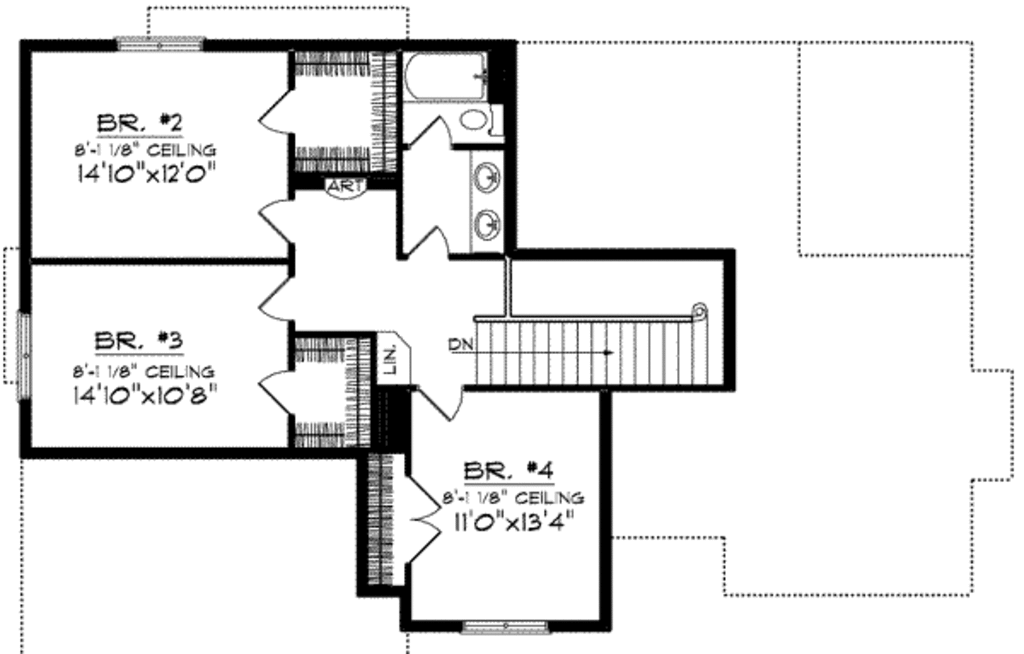door: (404, 470, 443, 569), (252, 364, 295, 420), (254, 194, 294, 252), (256, 273, 295, 331), (254, 87, 295, 139), (412, 384, 464, 423), (404, 223, 451, 265), (407, 114, 453, 155)
large_sink: (454, 103, 511, 143)
small_sink: (468, 148, 509, 255)
stairs: (450, 309, 718, 393)
tub: (398, 50, 491, 105)
windows: (113, 31, 209, 58), (457, 615, 553, 640), (13, 306, 34, 405)
